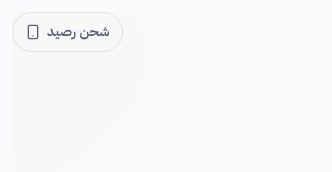
top-up buttons › tapping the network sells NOTHING — it only asks for the amount
The width and height of the screenshot is (332, 172).
What coordinates should you click on to do the following:
click the button "شحن رصيد"
I would click on:
 (67, 32)
Its box is [12,12,122,52].
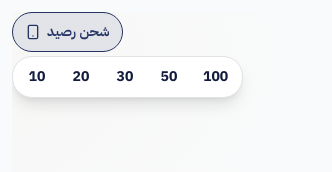
expect the menu item "50" is shown: met, box [149,61,189,93]
